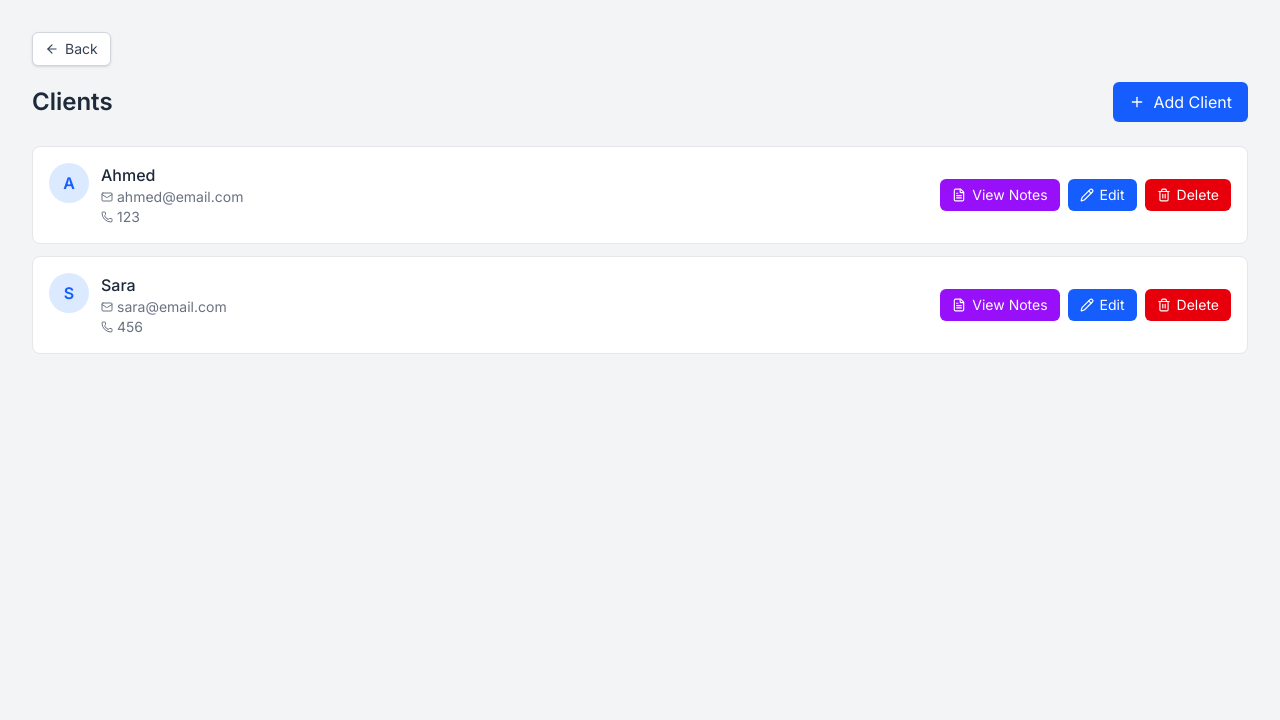
Test: Clients Component › opens edit modal on edit button click
Expected: the text "Ahmed" is shown, [101,165,156,185]
Click the button "Edit" in the row of "ahmed@email.com" at (1102, 195), box [1068,179,1137,211]
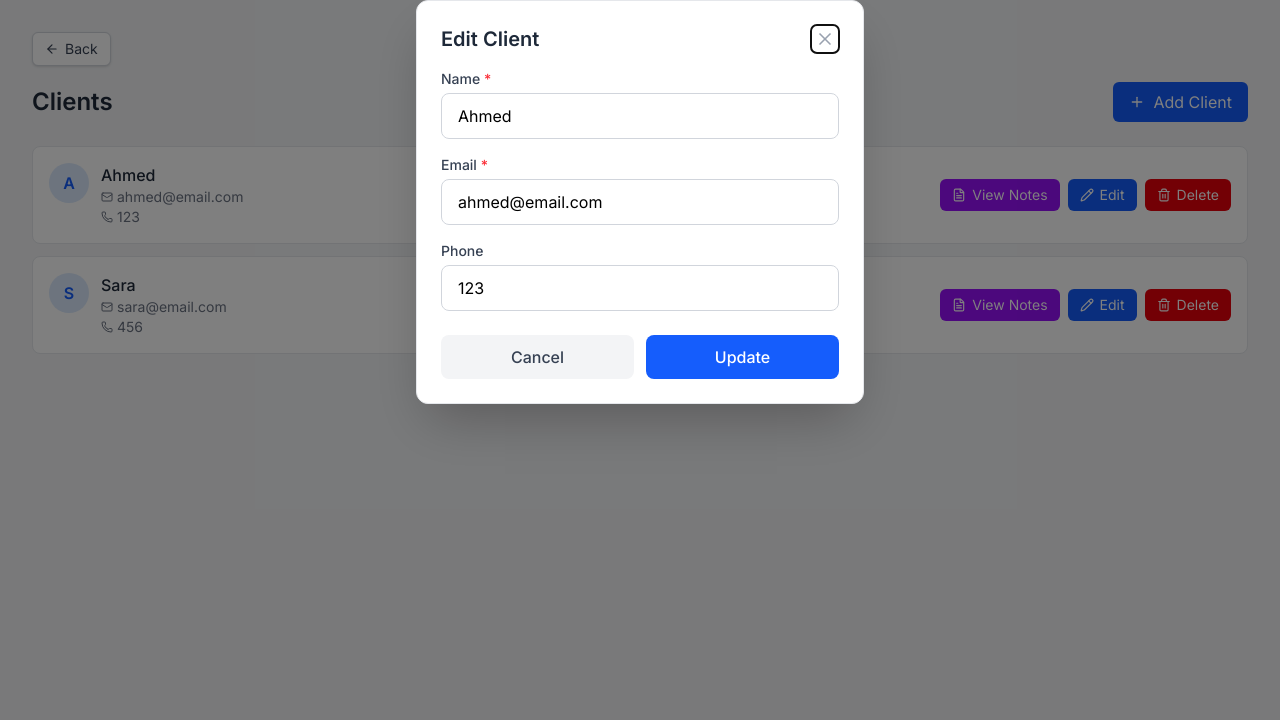
Now the heading "Edit Client" is shown, box [441,25,539,53]
